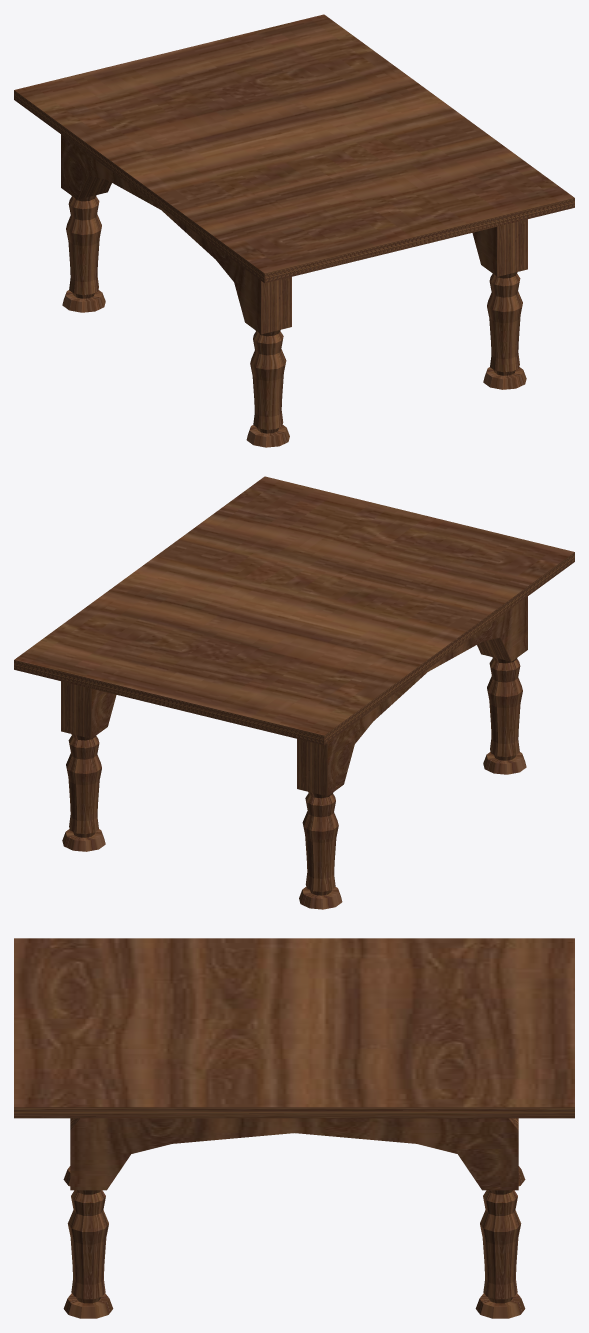
File: stol23.fbx
3 renders of one model, top to bottom at view 1: azimuth 30°, elevation 25°; view 2: azimuth 150°, elevation 25°; view 3: azimuth 270°, elevation 25°, orthographic. The views are drawn at different scales.
Parts seen in each view (by area): view 1: Cube, Cube.001, Cylinder, Cylinder.002, Cylinder.003, Cube.002; view 2: Cube, Cube.001, Cylinder.002, Cylinder, Cylinder.004, Cube.002; view 3: Cube, Cube.002, Cylinder.003, Cylinder.004.
Part boxes in pixels (x1,y1,x2,y2): Cube: [14, 14, 574, 283]; Cube.001: [61, 134, 291, 334]; Cylinder: [246, 329, 289, 447]; Cylinder.002: [62, 195, 105, 312]; Cylinder.003: [483, 272, 526, 389]; Cube.002: [472, 219, 527, 276]; Cube: [14, 476, 574, 745]; Cube.001: [297, 596, 527, 796]; Cylinder.002: [299, 791, 342, 909]; Cylinder: [483, 657, 526, 774]; Cylinder.004: [62, 734, 105, 851]; Cube.002: [61, 681, 116, 738]; Cube: [14, 938, 574, 1118]; Cube.002: [70, 1118, 518, 1190]; Cylinder.003: [63, 1190, 113, 1318]; Cylinder.004: [475, 1190, 525, 1318].
Bounding box in the file's own units: 779 × 475 × 1092.
Materials: 2 (2 with a texture image).
